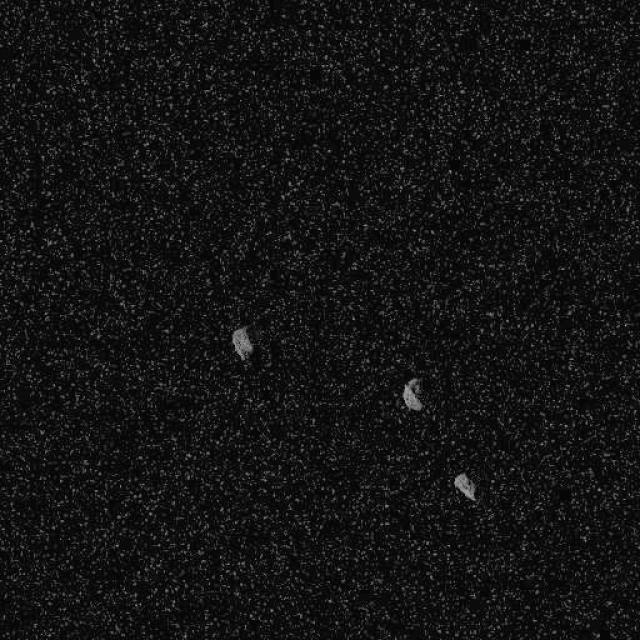D2: (230, 325, 254, 360), (452, 471, 477, 501), (402, 376, 422, 412)
